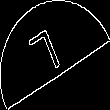L_SE: (36, 25, 74, 85)
